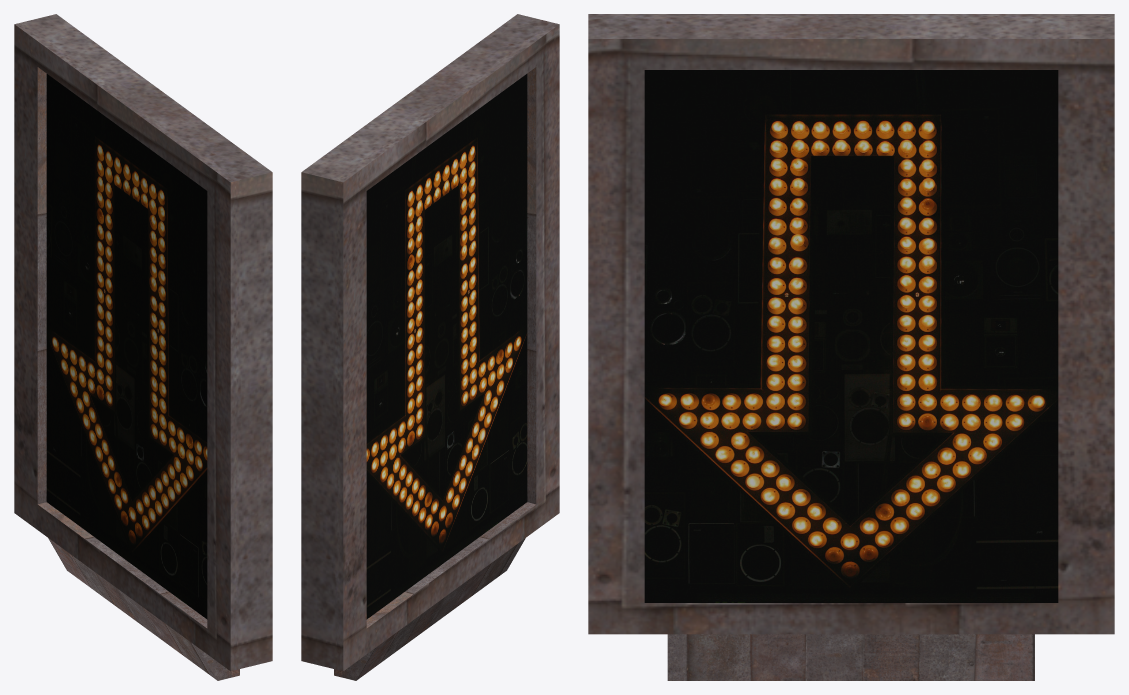
File: SM_LDFest_27_DownSign.fbx
The picture shows the model from 3 angles, left to right: view 1: azimuth 30°, elevation 25°; view 2: azimuth 150°, elevation 25°; view 3: azimuth 270°, elevation 25°; orthographic projection. The views are drawn at different scales.
Visible parts, largest first — view 1: SM_LDFest_27_DownSign; view 2: SM_LDFest_27_DownSign; view 3: SM_LDFest_27_DownSign.
Part boxes in pixels (x1=…): SM_LDFest_27_DownSign: x1=14, y1=14, x2=272, y2=680; SM_LDFest_27_DownSign: x1=301, y1=14, x2=559, y2=680; SM_LDFest_27_DownSign: x1=588, y1=14, x2=1114, y2=680.
Size of the model in its own units: 9.67 by 116 by 86.28.
